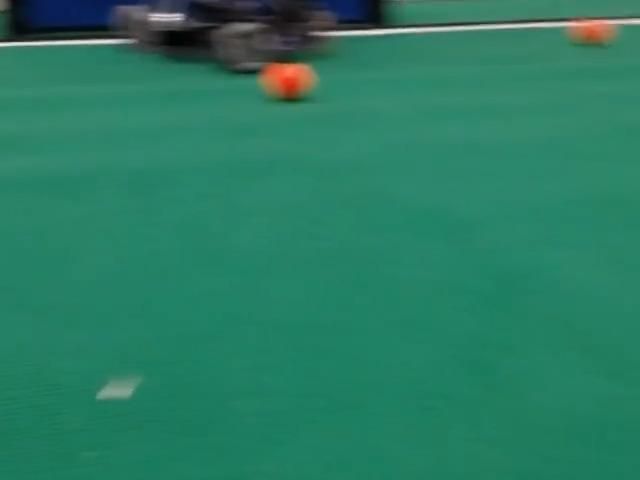Ball: (259, 63, 316, 100), (568, 20, 616, 45)
